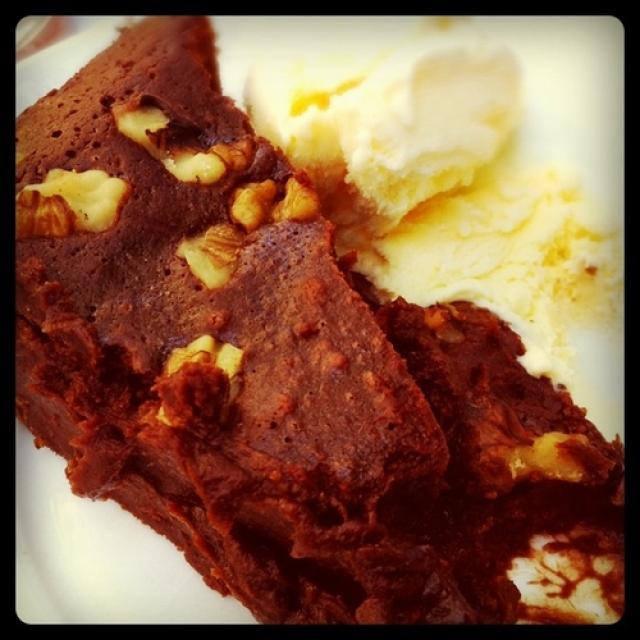蛋糕甜品: (22, 26, 608, 608)
